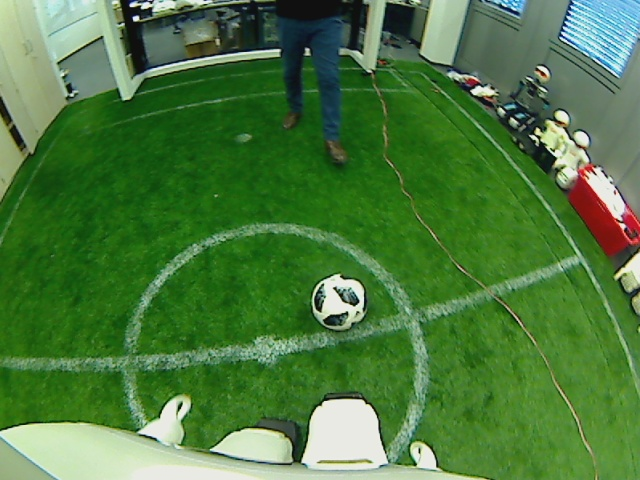ball: (309, 273, 369, 332)
